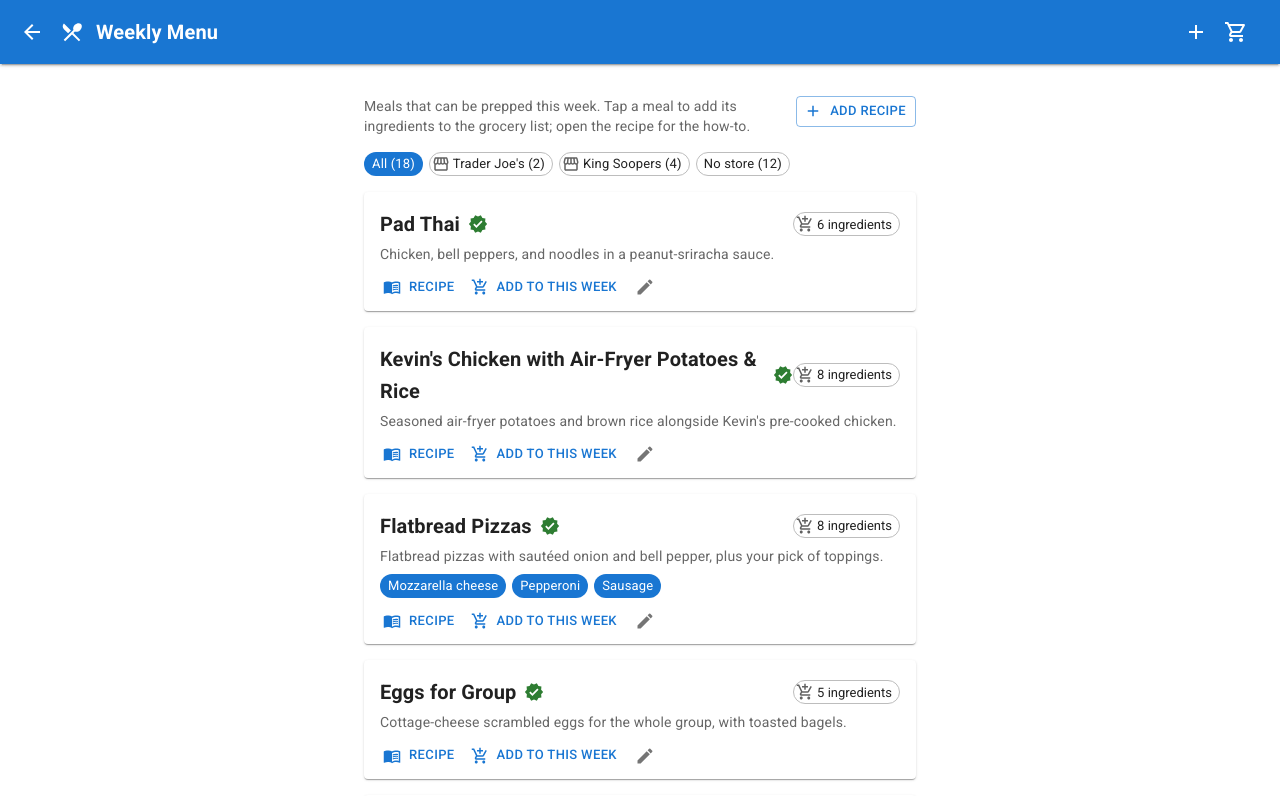
Test case: recipe dialog › shows the ingredients and the cleaned-up instructions
Click the button with aria-label "pad thai recipe" at (420, 287), box [380,272,460,303]
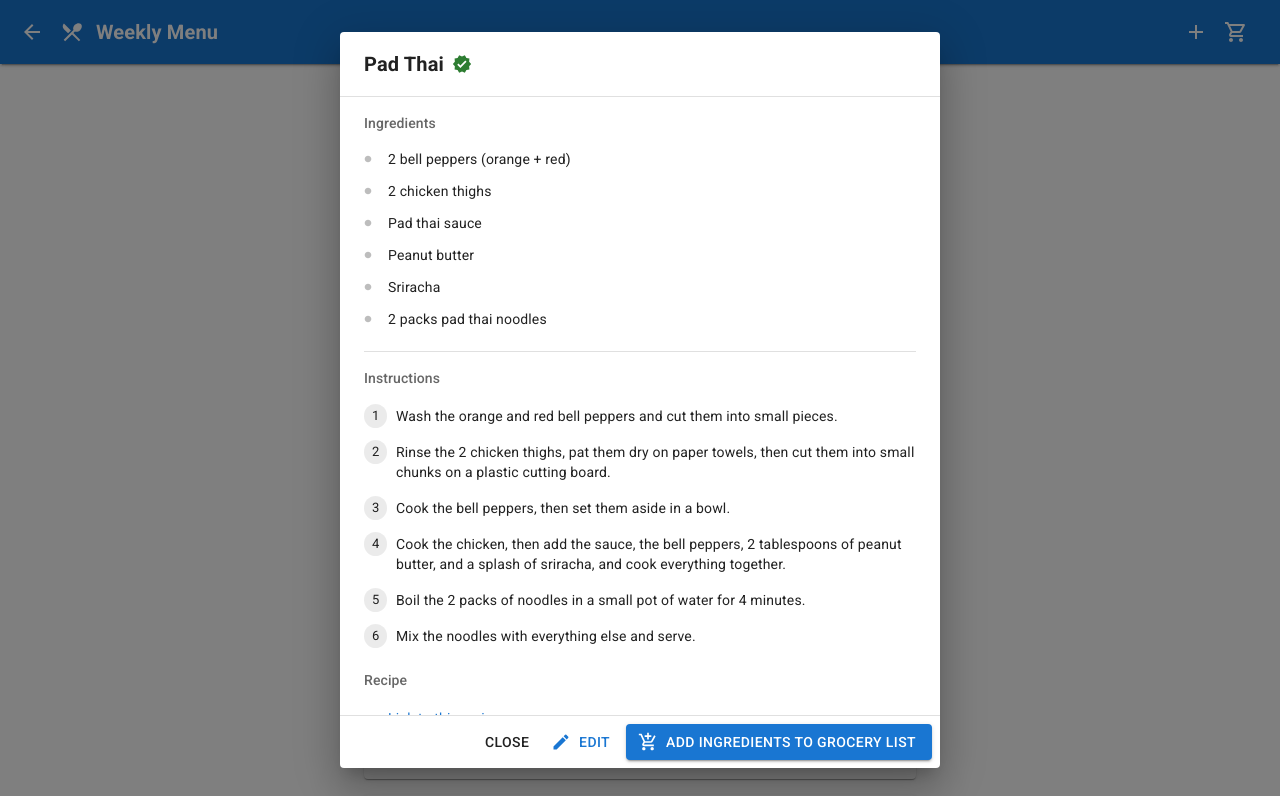
Check: the text "2 bell peppers (orange + red)" is shown, box [388,151,571,167]
Check: the text "2 chicken thighs" is shown, box [388,183,492,199]
Check: the text "Pad thai sauce" is shown, box [388,215,482,231]
